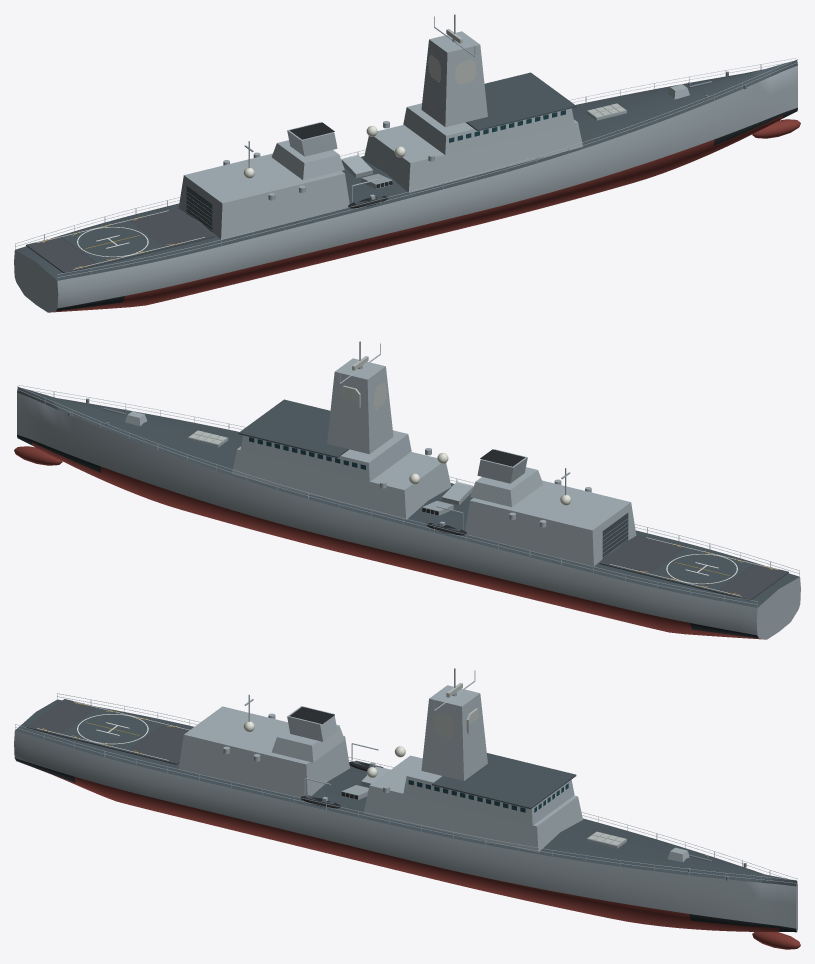
Rendered from rnon_ffg_fridtjof_nansen.glb.
3 renders of one model, top to bottom at view 1: azimuth 30°, elevation 25°; view 2: azimuth 150°, elevation 25°; view 3: azimuth 330°, elevation 25°, orthographic.
Parts seen in each view (by area): view 1: naval_paint, deck_non_skid, antifouling, flight_deck, array_face, boot_topping, rubber, marking_white; view 2: naval_paint, deck_non_skid, antifouling, flight_deck, array_face, boot_topping, rubber, marking_white; view 3: naval_paint, deck_non_skid, antifouling, flight_deck, array_face, rubber, boot_topping, marking_white, glazing.
Part boxes in pixels (box(x1,y1,x2,y2)): naval_paint: box(14, 14, 797, 312); deck_non_skid: box(15, 60, 797, 280); antifouling: box(49, 115, 800, 312); flight_deck: box(26, 208, 215, 273); array_face: box(428, 29, 625, 117); boot_topping: box(56, 107, 797, 311); rubber: box(290, 122, 392, 208); marking_white: box(37, 210, 204, 269); naval_paint: box(17, 341, 800, 639); deck_non_skid: box(17, 387, 799, 607); antifouling: box(14, 442, 765, 639); flight_deck: box(599, 535, 788, 600); array_face: box(189, 356, 386, 444); boot_topping: box(17, 434, 758, 638); rubber: box(422, 449, 524, 535); marking_white: box(610, 537, 777, 596); naval_paint: box(14, 668, 797, 931); deck_non_skid: box(15, 699, 796, 886); antifouling: box(41, 770, 800, 949); flight_deck: box(26, 699, 189, 764); array_face: box(433, 683, 625, 845); rubber: box(290, 707, 375, 808); boot_topping: box(15, 758, 796, 932); marking_white: box(37, 701, 189, 760); glazing: box(408, 780, 568, 812).
Bounding box in the file's own units: 10 × 2.54 × 1.28.
